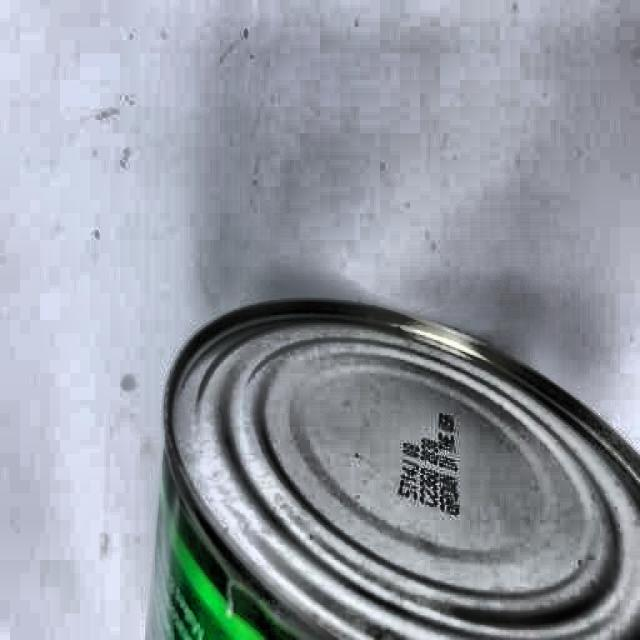metal: (163, 294, 640, 640)
